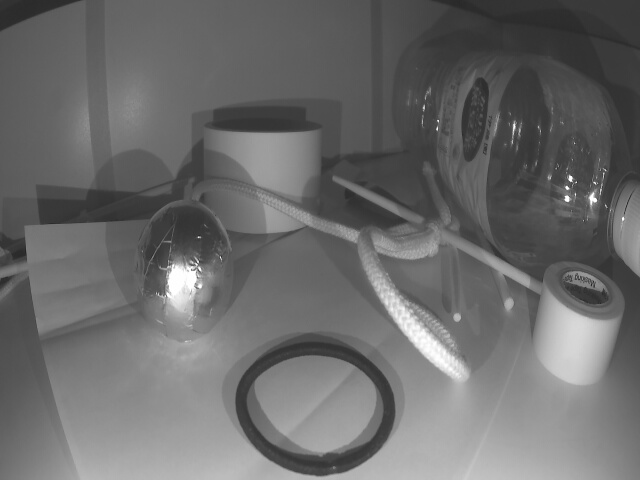Live: (135, 202, 233, 342)
